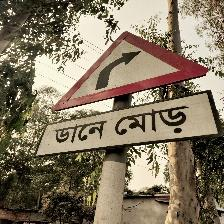Right-turn: (36, 32, 222, 157)
